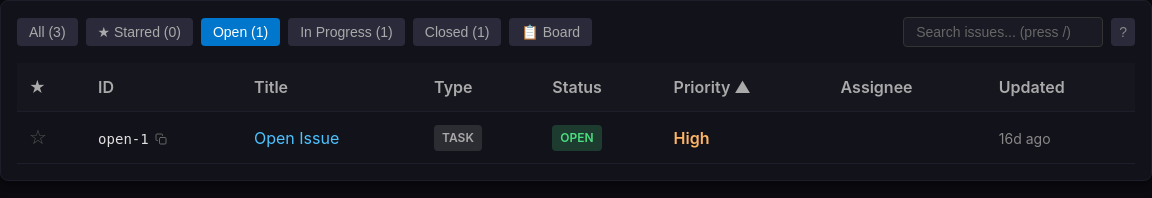
Test: IssueList › status filtering › filters by in_progress status
This screenshot has width=1152, height=198.
Click the button "In Progress (1)".
click(346, 32)  # box [288,18,405,46]
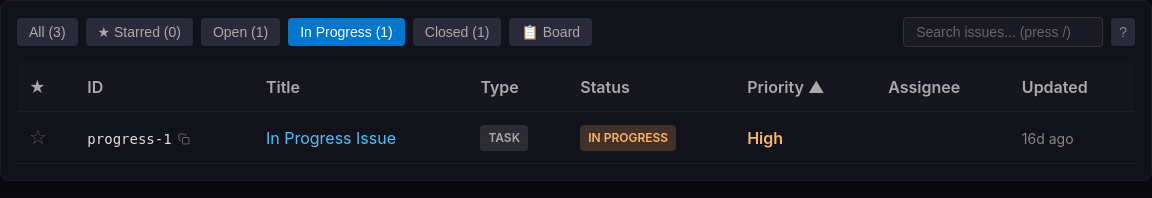
Expected: the text "Open Issue" is gone
Expected: the text "In Progress Issue" is shown, [266,128,396,148]
